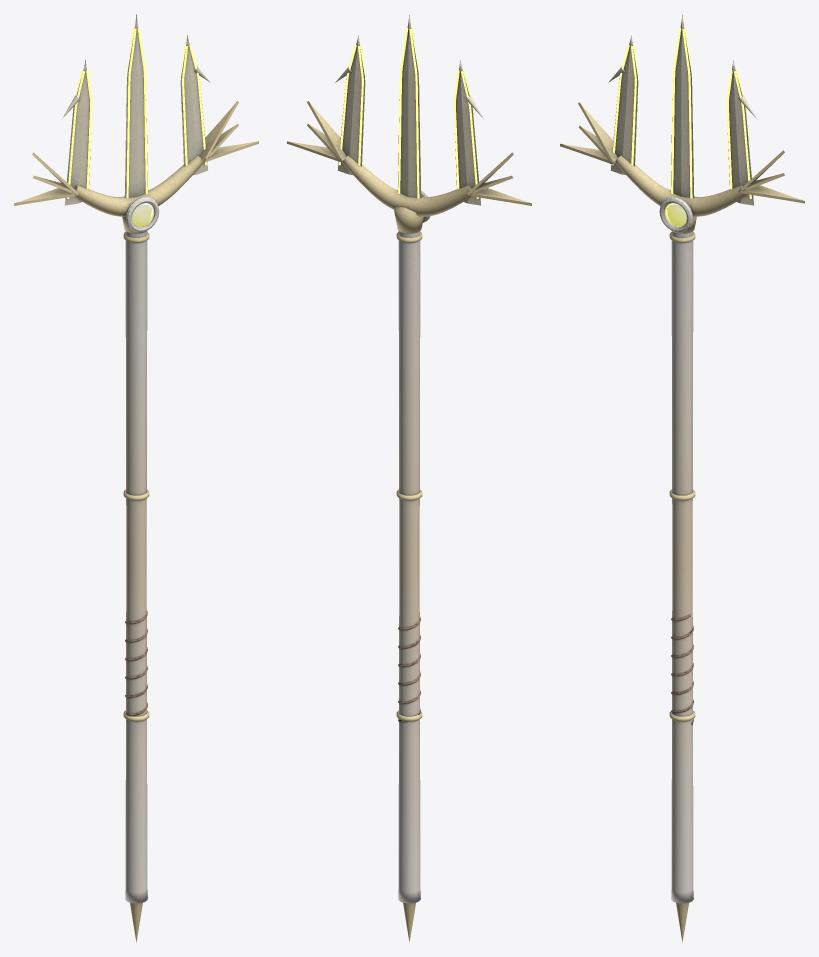
File: arma_lend_garfo_celestial.glb
3 views of the same model, side by side, from view 1: azimuth 30°, elevation 25°; view 2: azimuth 150°, elevation 25°; view 3: azimuth 330°, elevation 25° (orthographic).
Parts seen in each view (by area): view 1: arma_lend_garfo_celestial; view 2: arma_lend_garfo_celestial; view 3: arma_lend_garfo_celestial.
Boxes of the visible parts, x1,y1,x2,y2 form: arma_lend_garfo_celestial: (14,14,258,942); arma_lend_garfo_celestial: (287,14,531,942); arma_lend_garfo_celestial: (560,14,804,942).
Bounding box in the file's own units: 0.696 × 2.52 × 0.0809.
14 materials, 1 textured.
